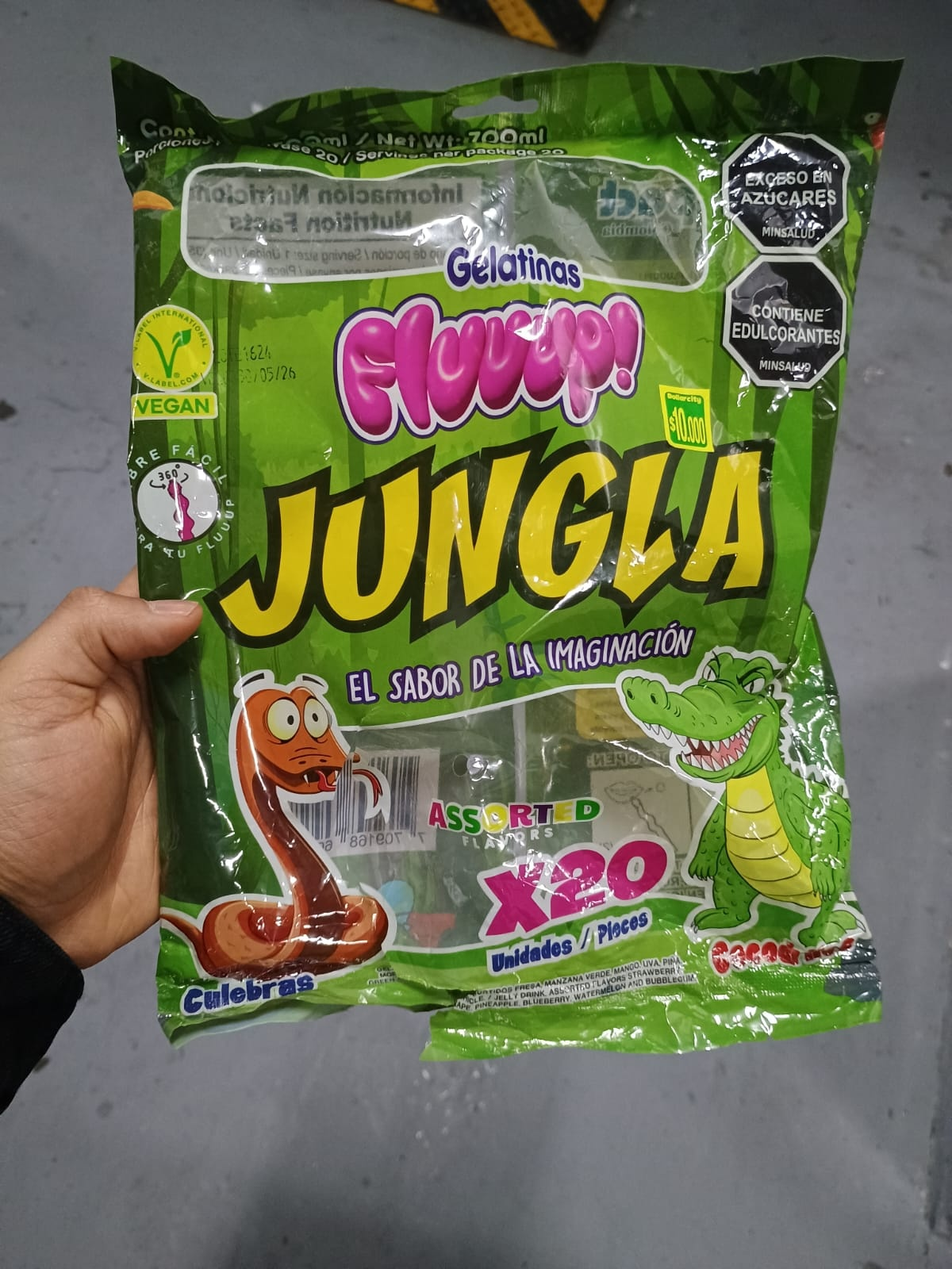Ordinario: (112, 58, 903, 1062)
